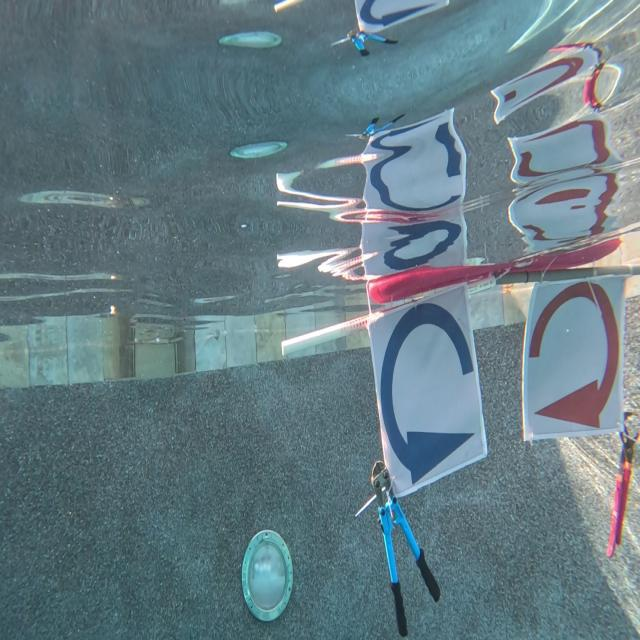blue_side: (369, 288, 491, 498)
red_side: (524, 273, 622, 439)
